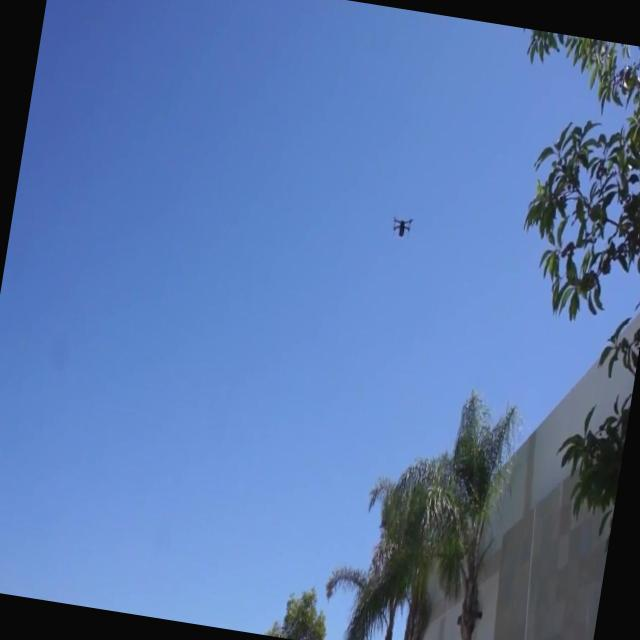drone: (388, 212, 415, 242)
